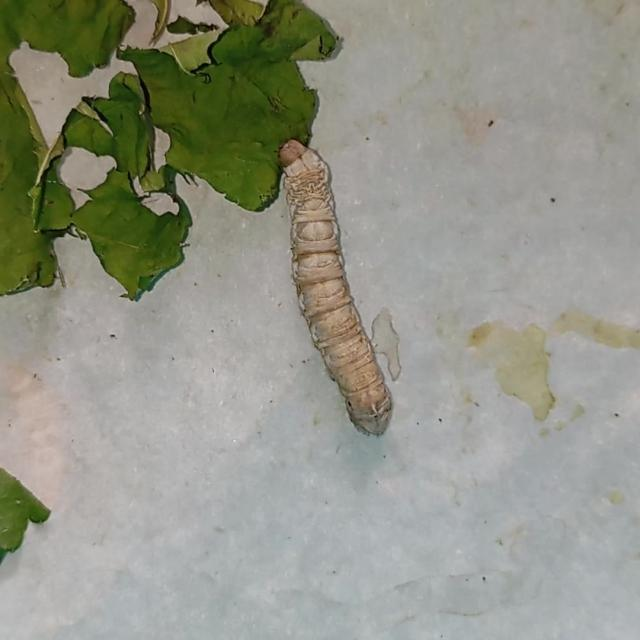Grasserie: (260, 114, 406, 443)
